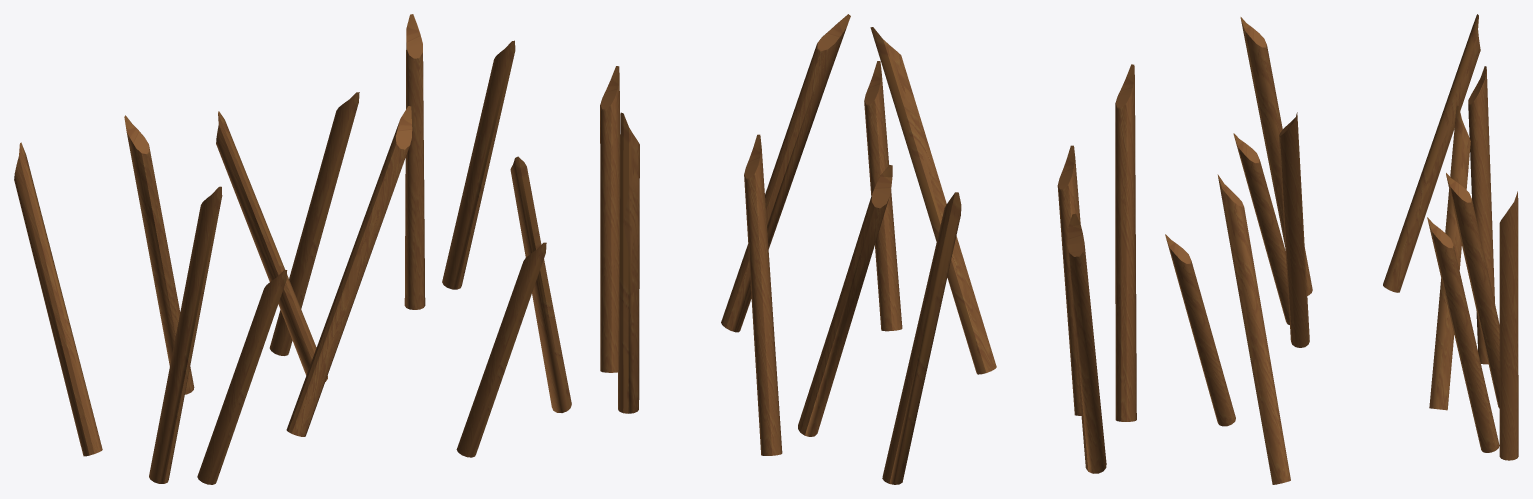
File: PiegePic.fbx
The picture shows the model from 3 angles, left to right: view 1: azimuth 30°, elevation 25°; view 2: azimuth 150°, elevation 25°; view 3: azimuth 270°, elevation 25°; orthographic projection. The views are drawn at different scales.
Parts seen in each view (by area): view 1: Cylinder; view 2: Cylinder; view 3: Cylinder.
Part boxes in pixels (x1=…): Cylinder: x1=14, y1=14, x2=571, y2=484; Cylinder: x1=600, y1=14, x2=1136, y2=484; Cylinder: x1=1165, y1=14, x2=1518, y2=484.
Bounding box in the file's own units: 87.61 × 58.13 × 60.23.
